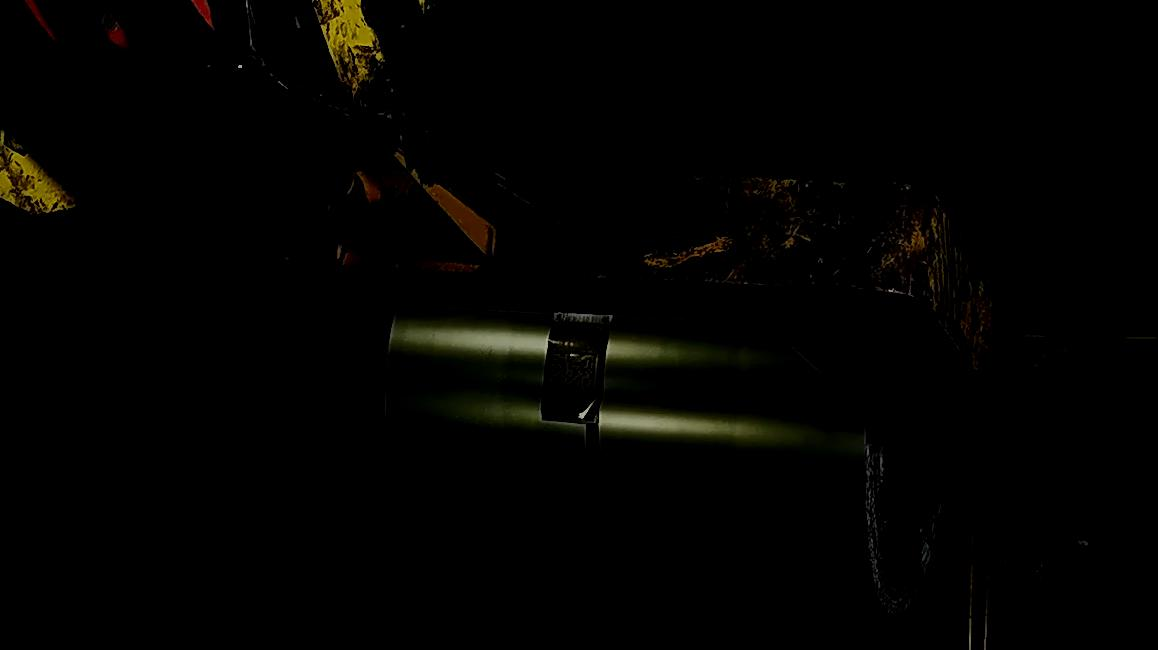data matrix: (546, 349, 601, 404)
